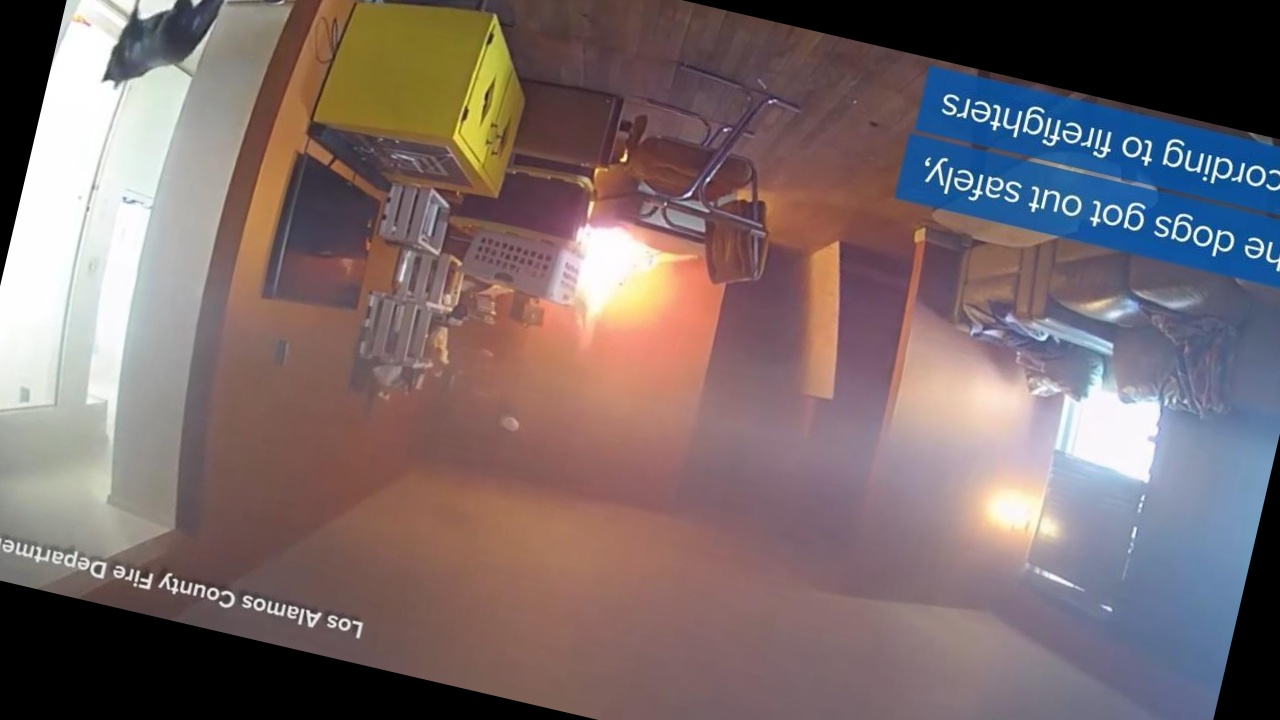fire: (552, 199, 696, 353)
